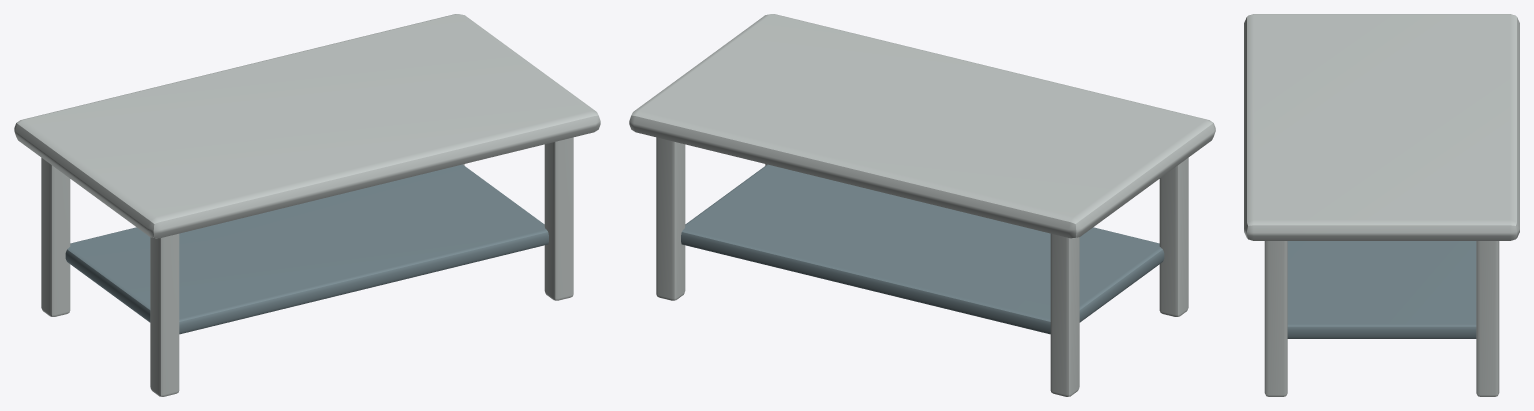
Rendered from coffee-table.glb.
3 views of the same model, side by side, from view 1: azimuth 30°, elevation 25°; view 2: azimuth 150°, elevation 25°; view 3: azimuth 270°, elevation 25° (orthographic). The views are drawn at different scales.
Parts seen in each view (by area): view 1: tabletop, lower_shelf, leg_0_1, leg_1_1, leg_0_0; view 2: tabletop, lower_shelf, leg_0_0, leg_1_0, leg_0_1; view 3: tabletop, lower_shelf, leg_1_0, leg_1_1.
Part boxes in pixels (<box>): tabletop: <box>14,14,600,238</box>; lower_shelf: <box>65,164,548,334</box>; leg_0_1: <box>150,233,179,396</box>; leg_1_1: <box>544,137,573,300</box>; leg_0_0: <box>41,158,70,316</box>; tabletop: <box>629,14,1215,238</box>; lower_shelf: <box>681,164,1164,334</box>; leg_0_0: <box>1050,233,1079,396</box>; leg_1_0: <box>656,137,685,300</box>; leg_0_1: <box>1159,158,1188,316</box>; tabletop: <box>1244,14,1519,240</box>; lower_shelf: <box>1287,241,1476,338</box>; leg_1_0: <box>1476,241,1499,396</box>; leg_1_1: <box>1264,241,1287,396</box>.
Size of the model in its own units: 1.1 by 0.44 by 0.6.
